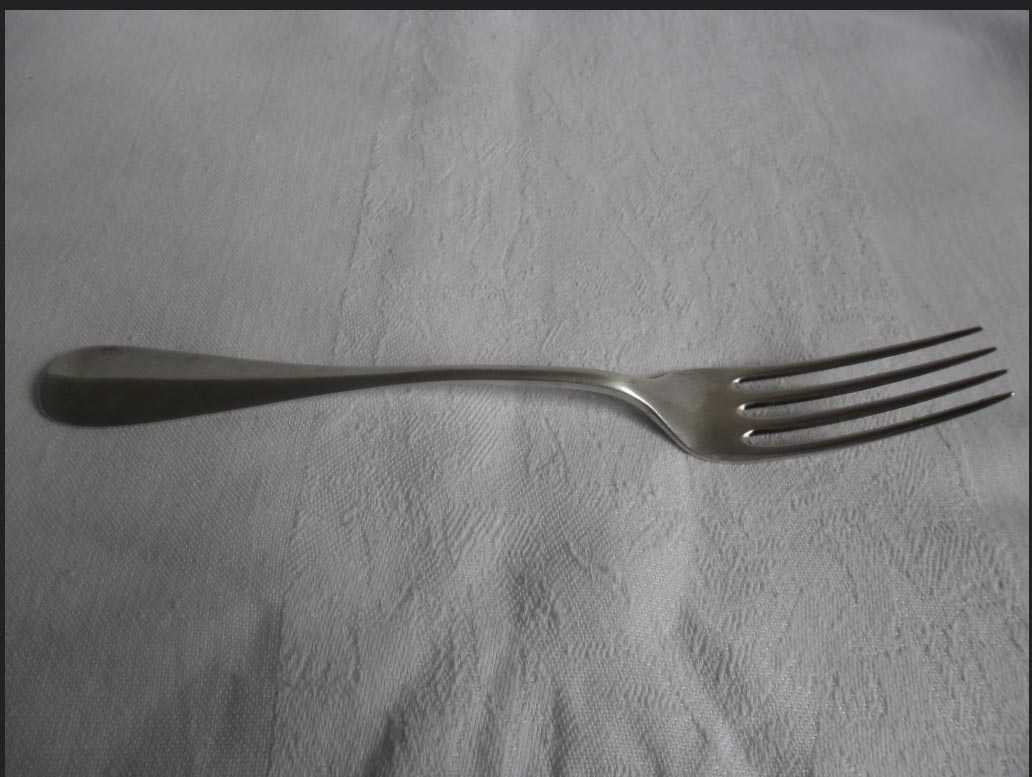Widelec: (635, 324, 1021, 472)
